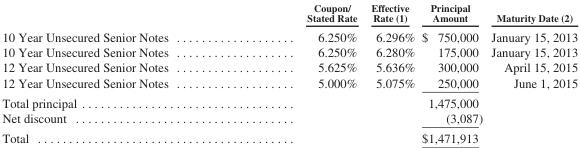table: (1, 1, 577, 144)
table column: (1, 1, 237, 144), (237, 1, 363, 144), (486, 1, 577, 144), (417, 1, 486, 144), (363, 1, 417, 144)
table column header: (1, 1, 577, 26)
table row: (1, 1, 577, 26), (1, 26, 577, 44), (1, 74, 577, 92), (1, 92, 577, 110), (1, 110, 577, 127), (1, 127, 577, 144), (1, 44, 577, 59), (1, 59, 577, 74)
